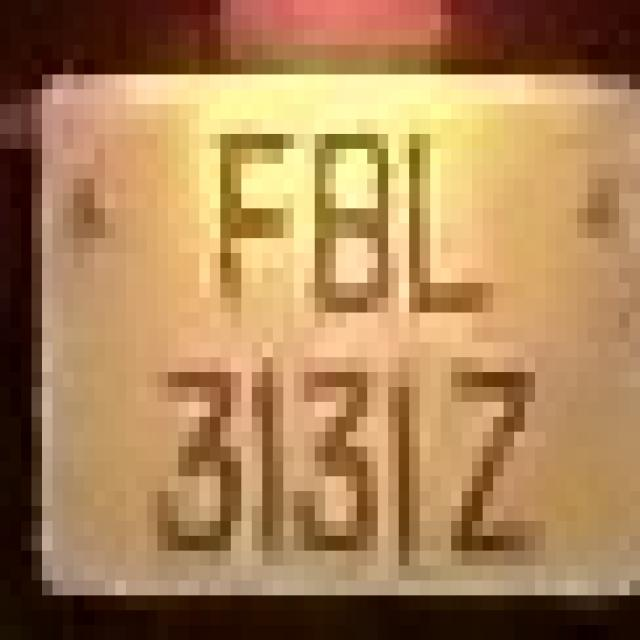1: (231, 298, 294, 595), (367, 372, 430, 566)
3: (294, 328, 388, 596), (147, 312, 231, 550)
B: (272, 89, 398, 372)
F: (199, 74, 315, 387)
L: (409, 104, 493, 313)
Z: (441, 312, 535, 596)
